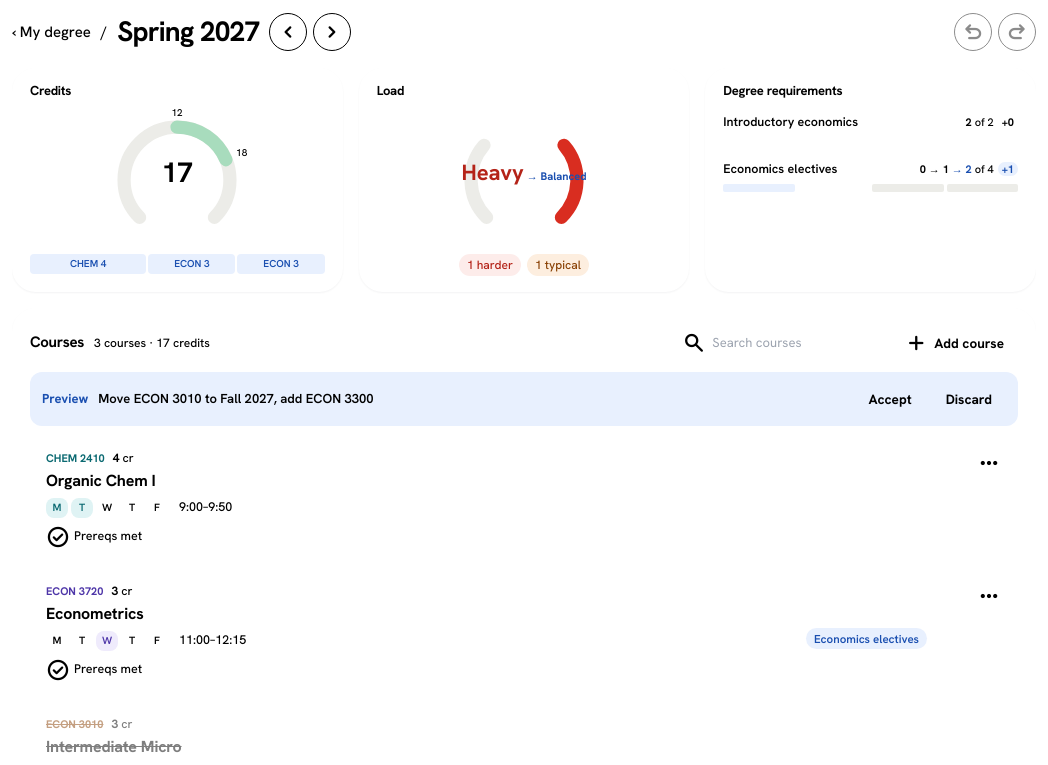
Test case: a refused accept shows the reason and drops Accept
Click the button "Accept" at {"x": 890, "y": 399}, box [854, 380, 926, 418]
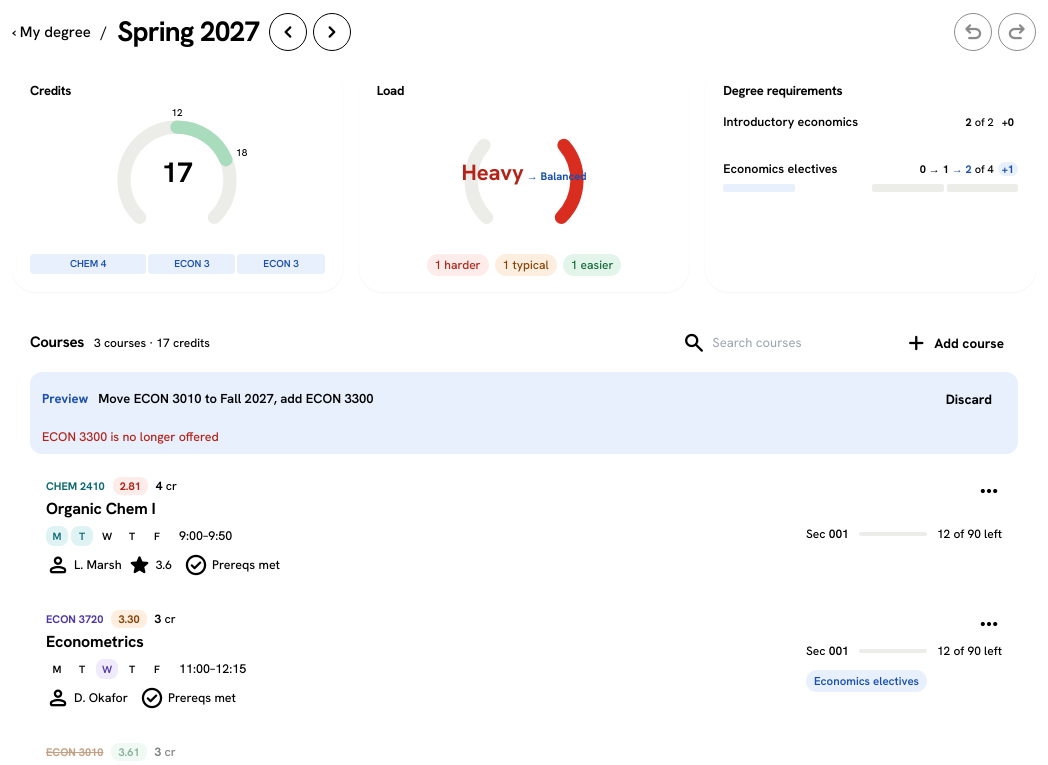
Expected: the button "Discard" is shown, [932, 380, 1006, 418]
Expected: the message reads "ECON 3300 is no longer offered", [42, 428, 219, 445]
Expected: the button "Accept" is gone
